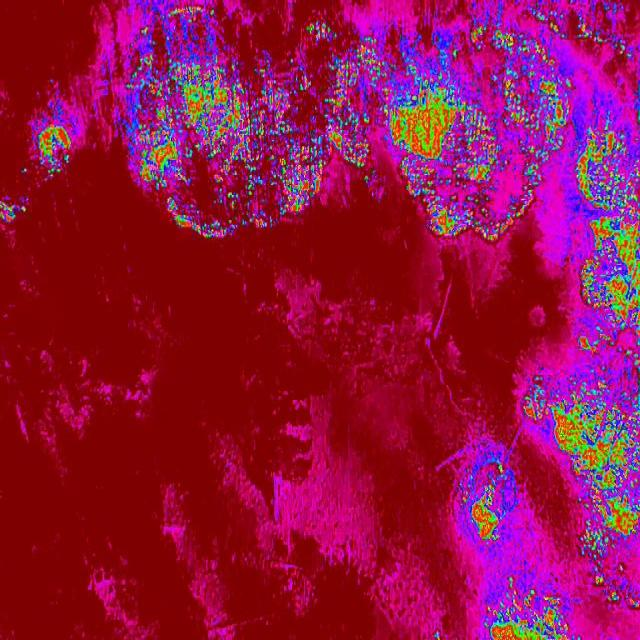fire: (116, 0, 325, 238), (390, 0, 570, 242), (571, 0, 640, 371), (324, 0, 391, 184), (568, 450, 640, 610), (526, 370, 640, 450), (452, 450, 526, 544), (479, 582, 584, 640), (26, 99, 76, 181), (0, 194, 29, 230)
